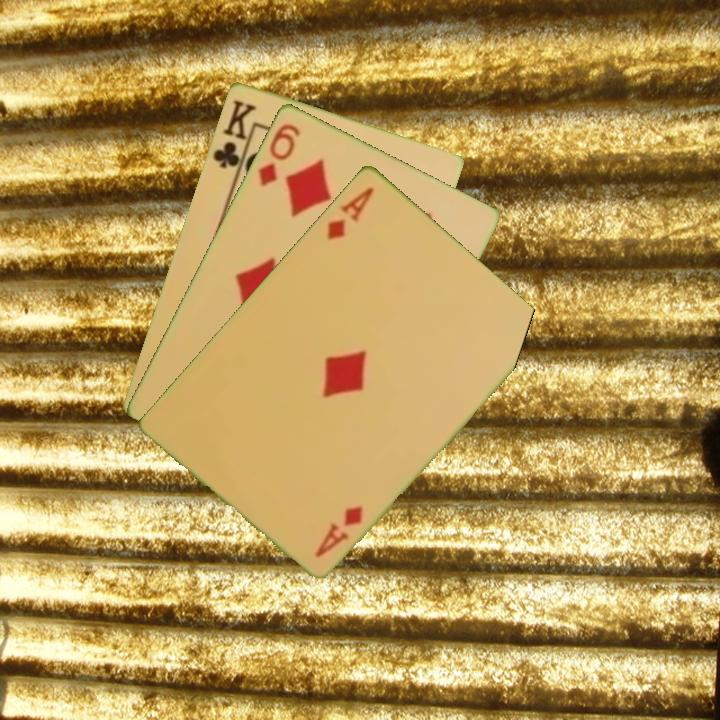6d: (254, 119, 302, 189)
Ad: (323, 182, 377, 242), (312, 501, 366, 560)
Kc: (208, 96, 259, 178)
